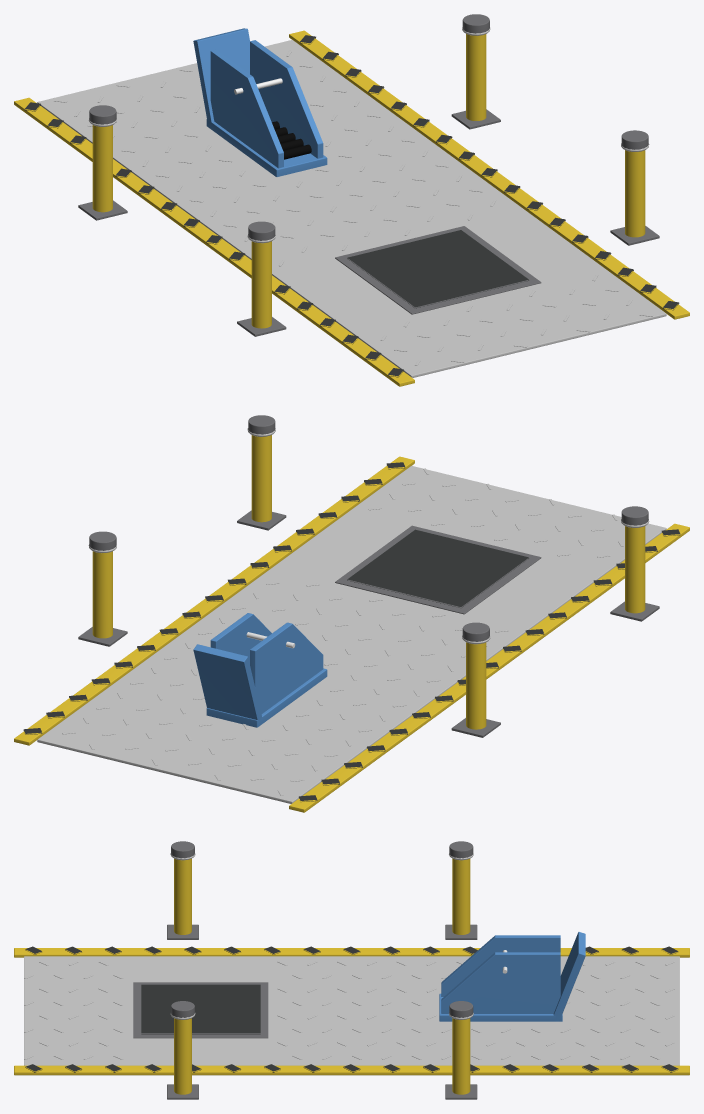
Rendered from industrial.workshop.dyno_rig.glb.
The picture shows the model from 3 angles, top to bottom: view 1: azimuth 30°, elevation 25°; view 2: azimuth 150°, elevation 25°; view 3: azimuth 270°, elevation 25°; orthographic projection. The views are drawn at different scales.
Parts seen in each view (by area): view 1: main__galv_ccc, main__paint_ec3, main__paint_59c, main__paint_333, main__galv_777, main__rubber; view 2: main__galv_ccc, main__paint_ec3, main__paint_333, main__paint_59c, main__galv_777; view 3: main__galv_ccc, main__paint_ec3, main__paint_59c, main__paint_333, main__galv_777.
Boxes of the visible parts, bbox=[...] form: main__galv_ccc: bbox=[37, 27, 666, 377]; main__paint_ec3: bbox=[14, 30, 689, 386]; main__paint_59c: bbox=[193, 28, 327, 176]; main__paint_333: bbox=[25, 35, 679, 377]; main__galv_777: bbox=[78, 14, 659, 336]; main__rubber: bbox=[272, 121, 311, 159]; main__galv_ccc: bbox=[37, 428, 666, 803]; main__paint_ec3: bbox=[14, 435, 689, 812]; main__paint_333: bbox=[23, 462, 680, 801]; main__paint_59c: bbox=[193, 613, 327, 727]; main__galv_777: bbox=[78, 415, 659, 737]; main__galv_ccc: bbox=[24, 853, 679, 1065]; main__paint_ec3: bbox=[14, 858, 689, 1094]; main__paint_59c: bbox=[439, 932, 585, 1021]; main__paint_333: bbox=[25, 946, 678, 1072]; main__galv_777: bbox=[133, 841, 477, 1099].
Size of the model in its own units: 2.06 by 0.489 by 3.4.
